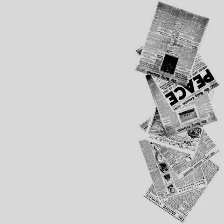news_paper: (134, 2, 212, 89), (135, 40, 221, 114), (135, 111, 219, 181), (142, 151, 220, 223), (141, 70, 215, 143), (142, 87, 215, 155), (134, 138, 207, 203)
